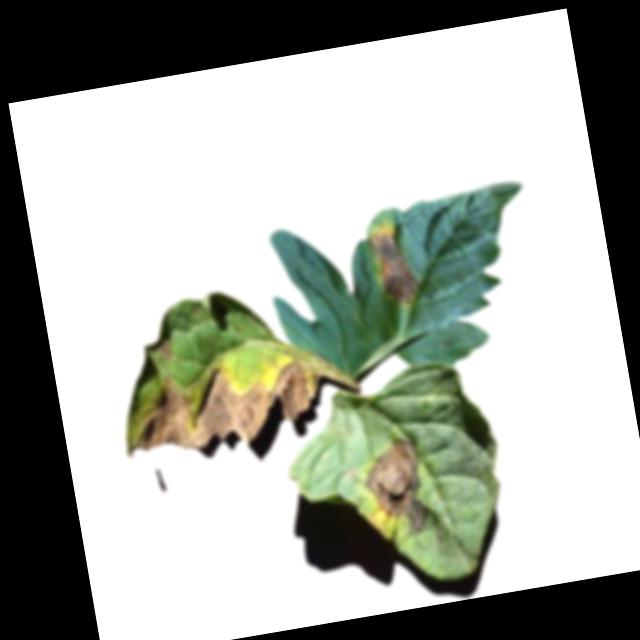Early_blight: (114, 345, 329, 461), (355, 432, 440, 543), (363, 219, 422, 309), (152, 336, 176, 361)
